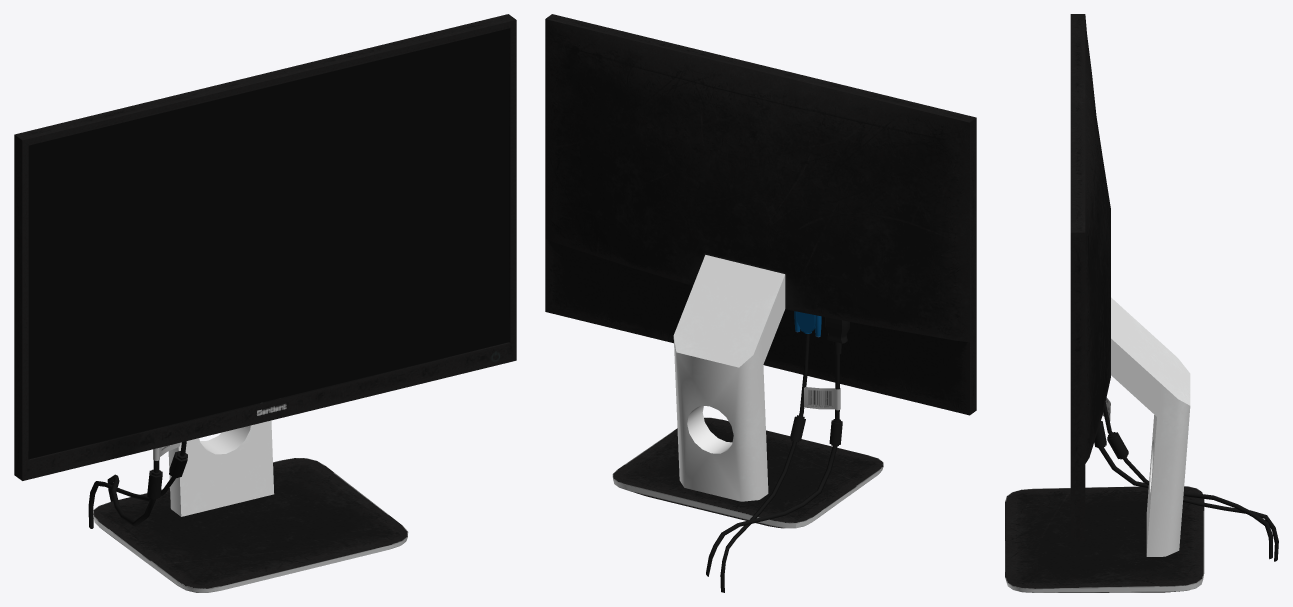
The picture shows the model from 3 angles, left to right: view 1: azimuth 30°, elevation 25°; view 2: azimuth 150°, elevation 25°; view 3: azimuth 270°, elevation 25°; orthographic projection. The views are drawn at different scales.
Visible parts, largest first — view 1: PC1_LOD0; view 2: PC1_LOD0; view 3: PC1_LOD0.
Part boxes in pixels (x1,y1,x2,y2): PC1_LOD0: (14,14,516,592); PC1_LOD0: (545,14,976,592); PC1_LOD0: (1005,14,1278,592).
Size of what is drawn, in the model's own units: 53.2 by 53.01 by 28.19.
